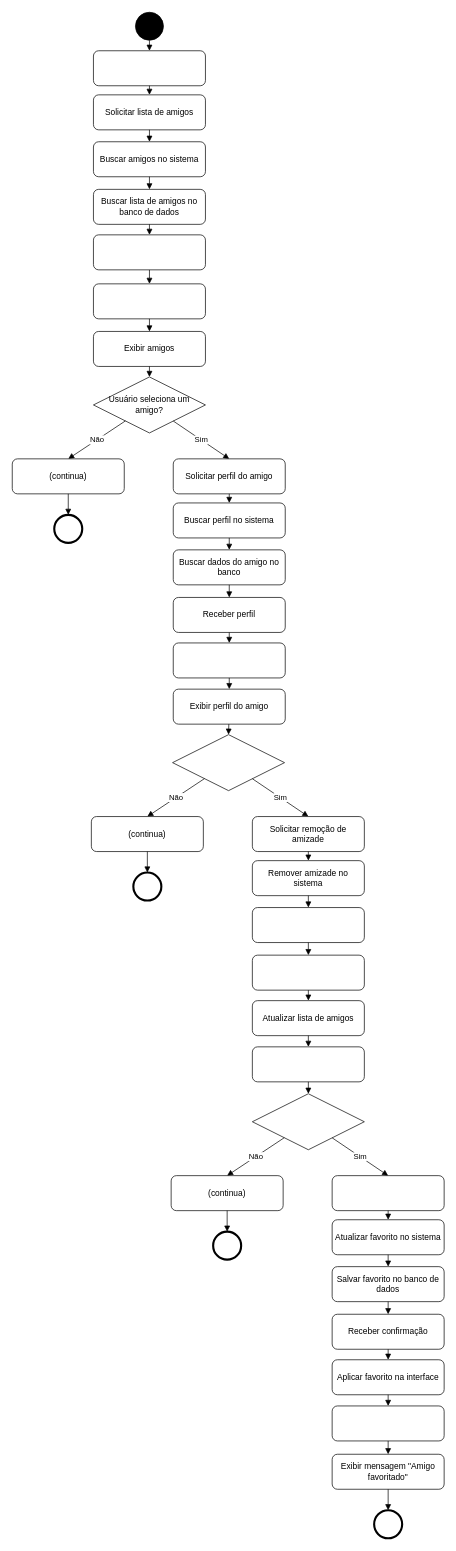
Image size: 456x1551. Some labels were removed from this diagram. Here are the shapes that lost their labels. From the top down, the centre of each, then its label:
(x=149, y=68): Acessar lista de amigos
(x=149, y=252): Receber lista de amigos
(x=149, y=301): Renderizar lista
(x=229, y=660): Renderizar perfil
(x=228, y=762): Usuário deseja remover amigo?
(x=308, y=925): Deletar relação no banco de dados
(x=308, y=972): Receber confirmação de remoção
(x=308, y=1064): Exibir mensagem "Amigo removido"
(x=308, y=1121): Usuário deseja favoritar amigo?
(x=387, y=1193): Enviar ação de favorito
(x=387, y=1423): Atualizar status visual
